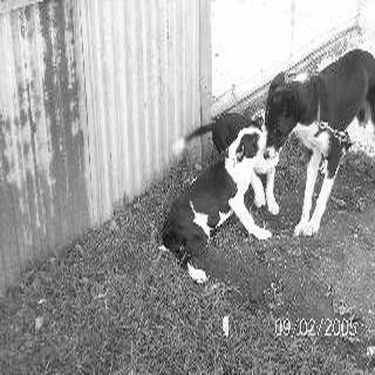dog: (259, 26, 370, 239), (155, 111, 276, 290), (166, 105, 281, 218)
